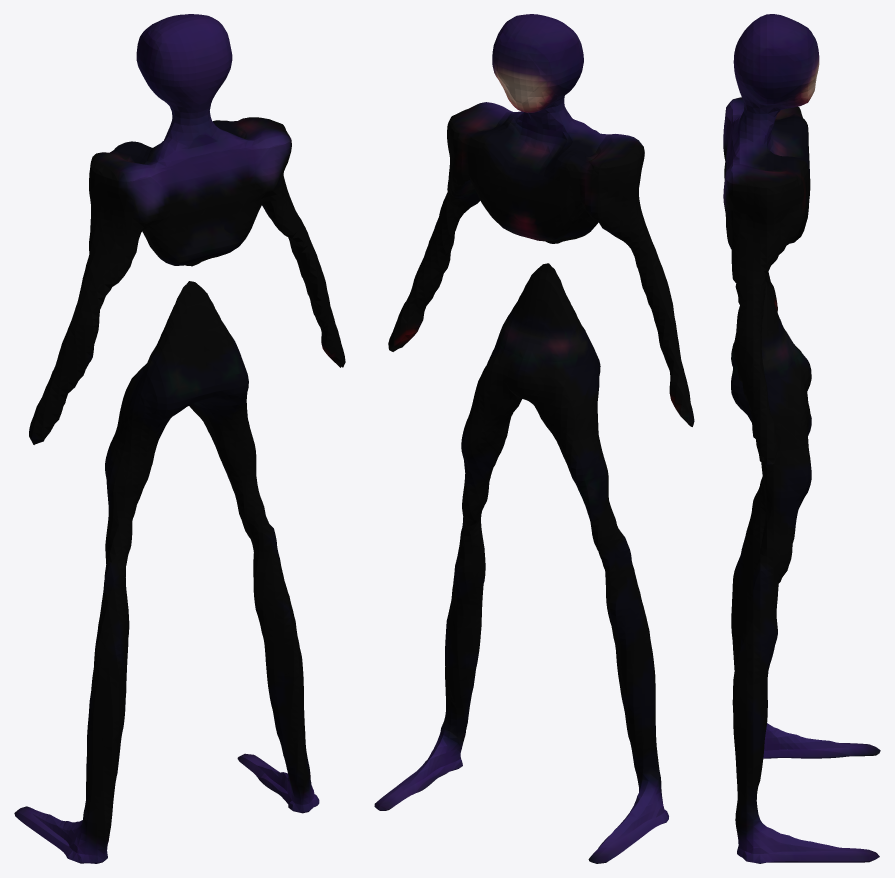
The model's file is shinji.glb.
The picture shows the model from 3 angles, left to right: view 1: azimuth 30°, elevation 25°; view 2: azimuth 150°, elevation 25°; view 3: azimuth 270°, elevation 25°; orthographic projection. The views are drawn at different scales.
Visible parts, largest first — view 1: shinji.ply; view 2: shinji.ply; view 3: shinji.ply.
Boxes of the visible parts, box(x1,y1,x2,y2) form: shinji.ply: box(14, 14, 345, 863); shinji.ply: box(374, 14, 694, 863); shinji.ply: box(723, 14, 880, 863).
Bounding box in the file's own units: 0.8035 × 1.98 × 0.3589.
